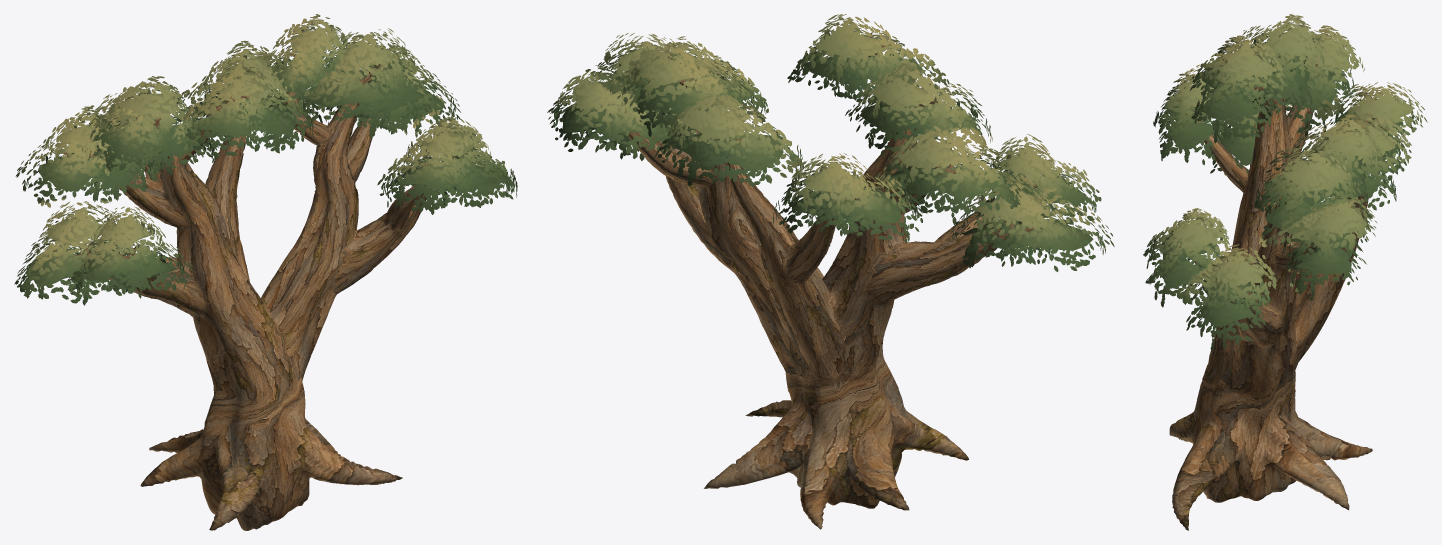
File: longbough-living.glb
3 renders of one model, left to right at view 1: azimuth 30°, elevation 25°; view 2: azimuth 150°, elevation 25°; view 3: azimuth 270°, elevation 25°, orthographic. The views are drawn at different scales.
Parts seen in each view (by area): view 1: living-wood, crown-foliage; view 2: crown-foliage, living-wood; view 3: crown-foliage, living-wood.
Part boxes in pixels (<box>): living-wood: <box>54,52,456,530</box>; crown-foliage: <box>14,14,517,305</box>; crown-foliage: <box>547,14,1114,271</box>; living-wood: <box>601,32,1042,529</box>; crown-foliage: <box>1143,14,1427,350</box>; living-wood: <box>1169,46,1372,530</box>.
Bounding box in the file's own units: 16.87 × 14.79 × 8.35.
2 materials, 1 textured.
